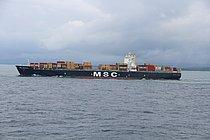Ship: (15, 50, 184, 84)
